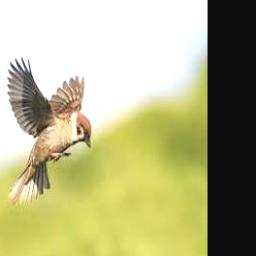Sparrow: (8, 57, 92, 206)
